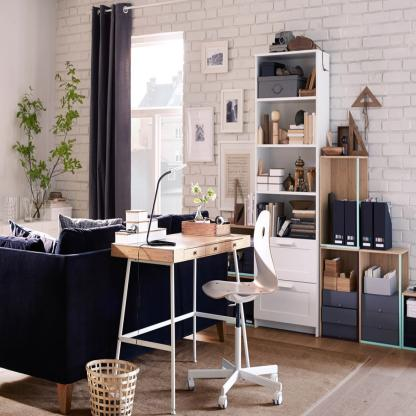Chair: (186, 207, 284, 411)
Table: (108, 218, 253, 416)
